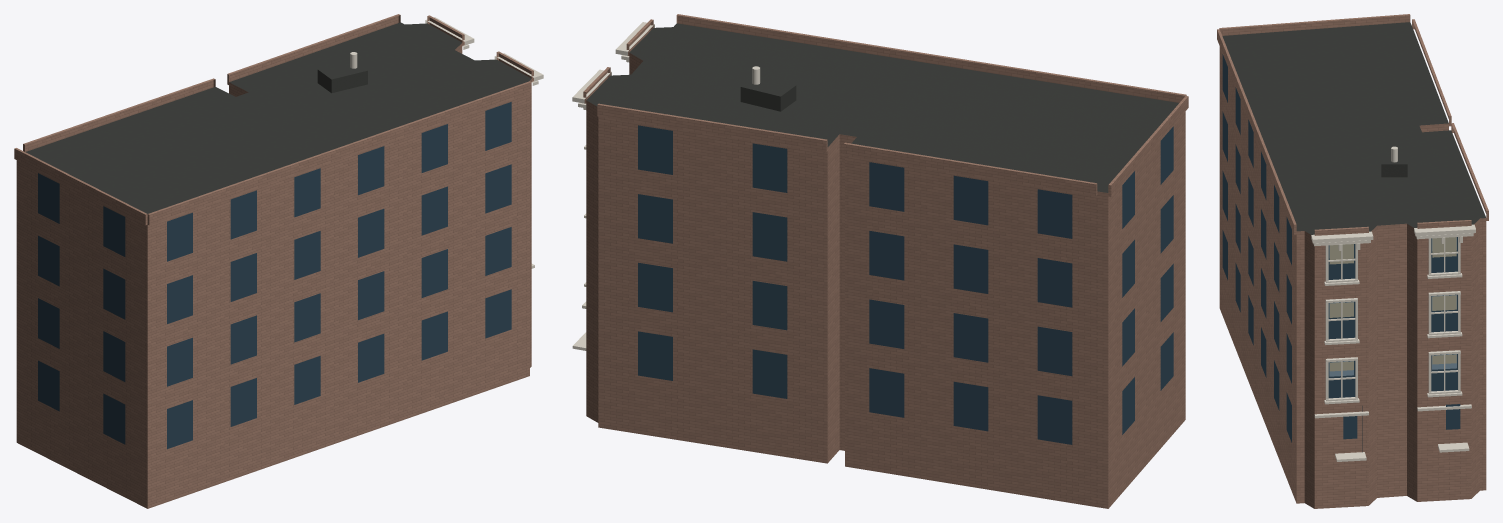
3 renders of one model, left to right at view 1: azimuth 30°, elevation 25°; view 2: azimuth 150°, elevation 25°; view 3: azimuth 270°, elevation 25°, orthographic. The views are drawn at different scales.
Visible parts, largest first — view 1: Footprint 0 / surface 2, Footprint 0 / surface 1, Inset glazing, Facade bay volumes; view 2: Footprint 0 / surface 2, Footprint 0 / surface 1, Inset glazing, Facade bay volumes, Cornices and window frames; view 3: Footprint 0 / surface 2, Footprint 0 / surface 1, Inset glazing, Cornices and window frames, Facade bay volumes, Interior blind variation, Sky reflection panels, Inferred rooftop service enclosure / surface 3, Inferred rooftop service enclosure / surface 1.
Boxes of the visible parts, <box> form: Footprint 0 / surface 2: <box>16,43,531,508</box>; Footprint 0 / surface 1: <box>25,22,531,213</box>; Inset glazing: <box>38,102,511,449</box>; Facade bay volumes: <box>14,14,533,225</box>; Footprint 0 / surface 2: <box>586,53,1185,508</box>; Footprint 0 / surface 1: <box>586,23,1178,192</box>; Inset glazing: <box>638,125,1173,444</box>; Facade bay volumes: <box>583,14,1188,196</box>; Cornices and window frames: <box>572,22,654,350</box>; Footprint 0 / surface 2: <box>1219,46,1486,508</box>; Footprint 0 / surface 1: <box>1222,22,1485,234</box>; Inset glazing: <box>1222,54,1460,442</box>; Cornices and window frames: <box>1311,224,1475,461</box>; Facade bay volumes: <box>1217,14,1488,235</box>; Interior blind variation: <box>1329,237,1456,371</box>; Sky reflection panels: <box>1329,237,1456,376</box>; Inferred rooftop service enclosure / surface 3: <box>1381,147,1407,164</box>; Inferred rooftop service enclosure / surface 1: <box>1381,164,1407,177</box>.
Size of the model in its own units: 23.62 by 14.88 by 12.29.
